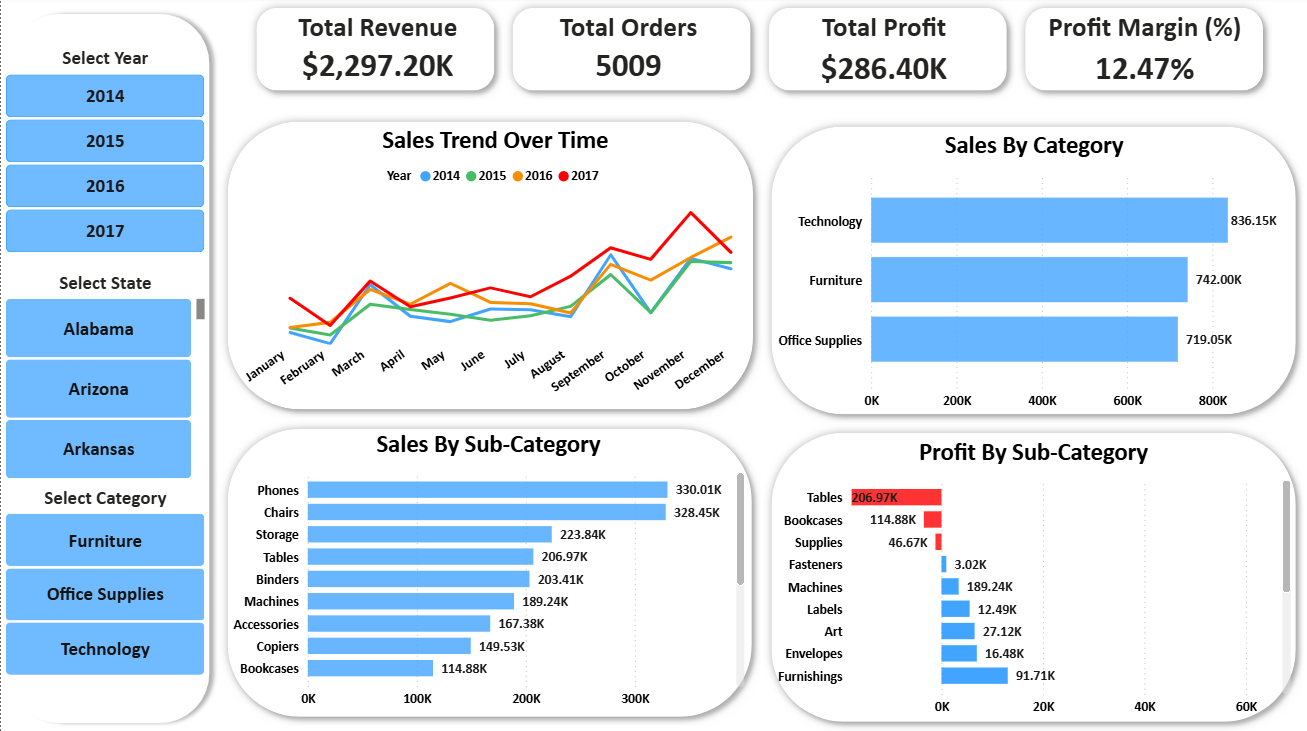

Layout of this report page (visuals, bound fields, positions):
{"tool":"powerbi","page":{"name":"Sales","canvas":[1280,720],"ordinal":0},"visuals":[{"type":"shape","box":[0,8.6,212.8,711.7],"z":0},{"type":"shape","box":[240.9,2.4,250.7,99],"z":1000},{"type":"shape","box":[491.6,2.4,250.7,99],"z":2000},{"type":"shape","box":[742.3,2.4,250.7,99],"z":3000},{"type":"shape","box":[992.9,2.4,250.7,99],"z":4000},{"type":"shape","box":[212.8,113.7,531.9,299.6],"z":5000},{"type":"shape","box":[212.8,414.5,530.7,299.6],"z":6000},{"type":"shape","box":[744.2,119.1,531,299.6],"z":7000},{"type":"shape","box":[744.2,418.7,531,300.8],"z":8000},{"type":"card","title":"Total Revenue","fields":{"Values":["sales.Total Sales"]},"box":[253.1,8.6,231.1,83.2],"z":9000},{"type":"card","title":"Total Orders","fields":{"Values":["orders.Total Orders"]},"box":[495.2,8.6,237.2,83.2],"z":10000},{"type":"card","title":"Total Profit","fields":{"Values":["sales.Total Profit"]},"box":[744.7,8.6,238.5,83.2],"z":11000},{"type":"card","title":"Profit Margin (%)","fields":{"Values":["products.Profit Margin"]},"box":[1002.7,8.6,232.3,83.2],"z":12000},{"type":"clusteredBarChart","title":"Sales By Category","fields":{"Category":["products.category"],"Y":["sales.Total Sales"]},"box":[754.5,126,512.4,286.1],"z":13000},{"type":"clusteredBarChart","title":"Sales By Sub-Category","fields":{"Category":["products.sub-category"],"Y":["sales.Total Sales"]},"box":[221.3,418.2,511.1,286.1],"z":14000},{"type":"lineChart","title":"Sales Trend Over Time","fields":{"Y":["sales.Total Sales"],"Category":["orders.order_date.Variation.Date Hierarchy.Month"],"Series":["orders.order_date.Variation.Date Hierarchy.Year"]},"box":[232.3,121.1,502.6,286.1],"z":15000},{"type":"clusteredBarChart","title":"Profit By Sub-Category","fields":{"Category":["products.sub-category"],"Y":["sales.Total Profit"]},"box":[753.3,425.5,513.6,286.1],"z":16000},{"type":"advancedSlicerVisual","title":"Select Year","fields":{"Values":["orders.order_date.Variation.Date Hierarchy.Year"]},"box":[0,44,204.2,214],"z":17000},{"type":"advancedSlicerVisual","title":"Select Category","fields":{"Values":["products.category"]},"box":[0,479.4,204.2,190.8],"z":18000},{"type":"advancedSlicerVisual","title":"Select State","fields":{"Values":["orders.state"]},"box":[0,269,204.2,210.3],"z":19000}]}

Visuals, with their boxes in screenshot pixels (x1, y1, x2, y2), scaled from the page's 1280x720 canvas onto the 1307x731 screenshot:
shape: [0, 9, 217, 730]
shape: [246, 2, 502, 103]
shape: [502, 2, 758, 103]
shape: [758, 2, 1014, 103]
shape: [1014, 2, 1270, 103]
shape: [217, 115, 760, 420]
shape: [217, 421, 759, 725]
shape: [760, 121, 1302, 425]
shape: [760, 425, 1302, 730]
"Total Revenue" card: [258, 9, 494, 93]
"Total Orders" card: [506, 9, 748, 93]
"Total Profit" card: [760, 9, 1004, 93]
"Profit Margin (%)" card: [1024, 9, 1261, 93]
"Sales By Category" clusteredBarChart: [770, 128, 1294, 418]
"Sales By Sub-Category" clusteredBarChart: [226, 425, 748, 715]
"Sales Trend Over Time" lineChart: [237, 123, 750, 413]
"Profit By Sub-Category" clusteredBarChart: [769, 432, 1294, 722]
"Select Year" advancedSlicerVisual: [0, 45, 209, 262]
"Select Category" advancedSlicerVisual: [0, 487, 209, 680]
"Select State" advancedSlicerVisual: [0, 273, 209, 487]
